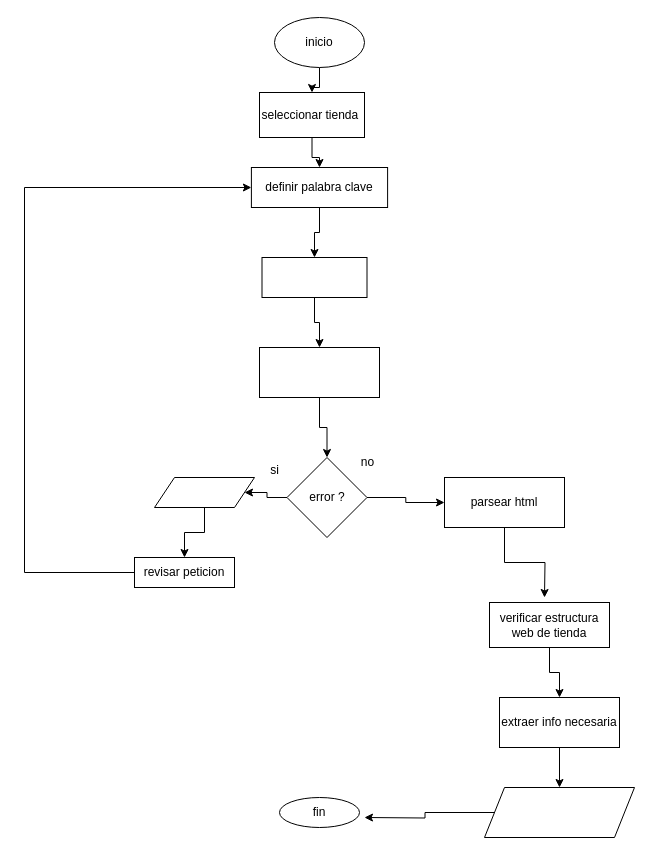
The diagram is 652 pixels wide and 855 high, and some of its shapes have lost their labels. Each missing label, with the box of its shape:
armar url de consulta: (261, 256, 367, 298)
mostrar error: (154, 476, 254, 508)
print info extraida: (484, 786, 634, 838)
realizar peticion http: (258, 346, 380, 398)
